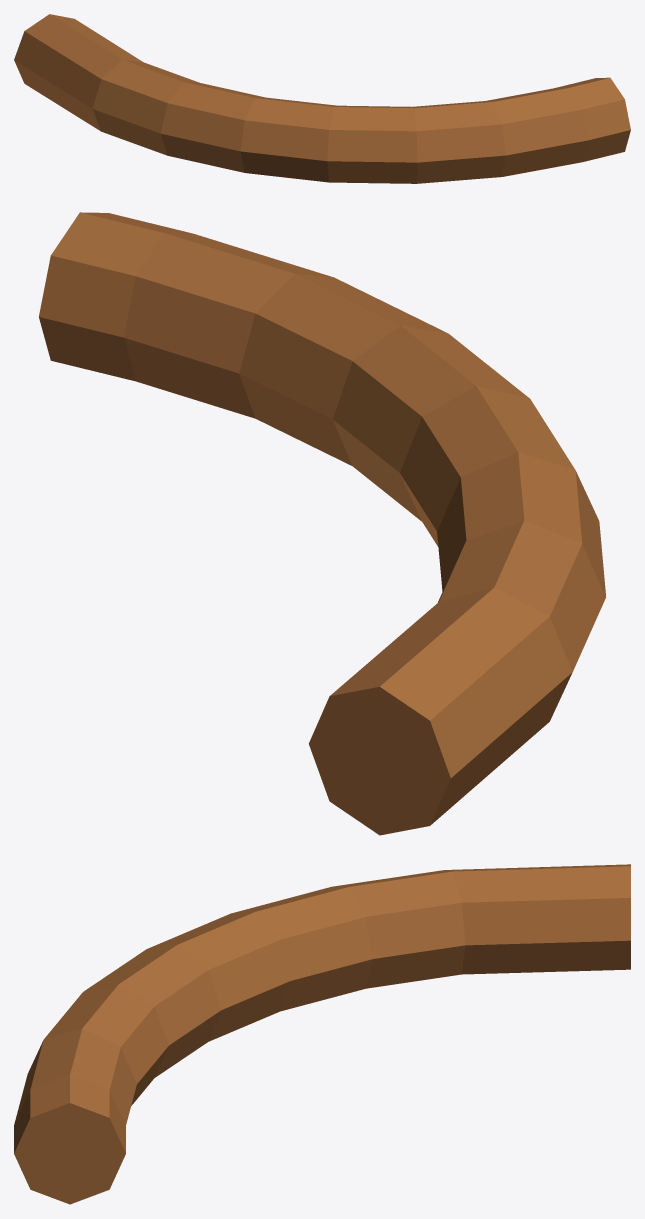
The model's file is pipe_corner.fbx.
3 views of the same model, one above another, from view 1: azimuth 30°, elevation 25°; view 2: azimuth 150°, elevation 25°; view 3: azimuth 270°, elevation 25° (orthographic). The views are drawn at different scales.
Parts seen in each view (by area): view 1: Cylinder.003; view 2: Cylinder.003; view 3: Cylinder.003.
Part boxes in pixels (x1,y1,x2,y2): Cylinder.003: (14, 14, 630, 183); Cylinder.003: (39, 212, 605, 835); Cylinder.003: (14, 864, 630, 1204).
Bounding box in the file's own units: 55 × 10 × 55.06.
